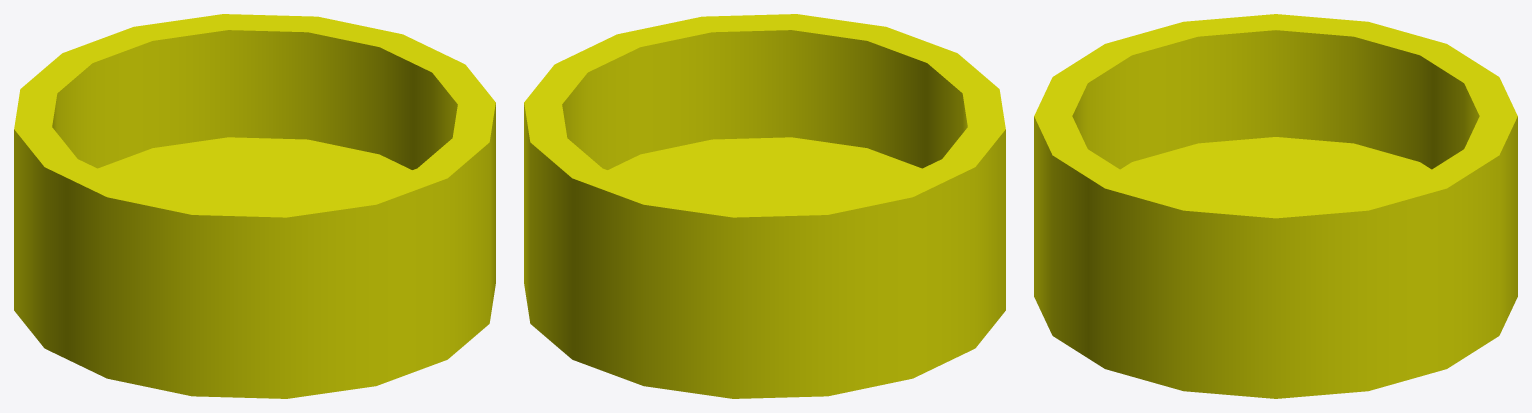
The picture shows the model from 3 angles, left to right: view 1: azimuth 30°, elevation 25°; view 2: azimuth 150°, elevation 25°; view 3: azimuth 270°, elevation 25°; orthographic projection.
Parts seen in each view (by area): view 1: hop; view 2: hop; view 3: hop.
Boxes of the visible parts, left/top/right/bottom form: hop: left=14, top=14, right=495, bottom=398; hop: left=524, top=14, right=1005, bottom=398; hop: left=1034, top=14, right=1517, bottom=398.
Size of the model in its own units: 0.4054 by 0.167 by 0.4054.
Materials: 1 (1 with a texture image).
